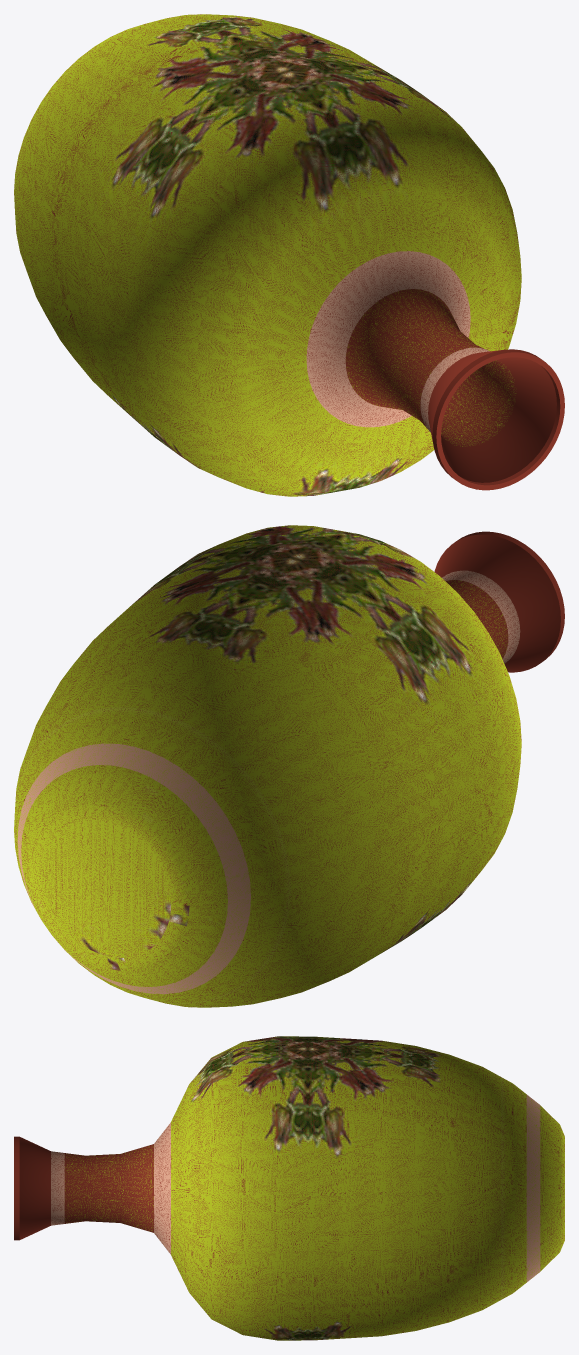
The model's file is model_align.obj.
3 views of the same model, one above another, from view 1: azimuth 30°, elevation 25°; view 2: azimuth 150°, elevation 25°; view 3: azimuth 270°, elevation 25° (orthographic). The views are drawn at different scales.
Visible parts, largest first — view 1: mesh1_mesh1-geometry; view 2: mesh1_mesh1-geometry; view 3: mesh1_mesh1-geometry.
Part boxes in pixels (left/top/right/bottom): mesh1_mesh1-geometry: left=14, top=14, right=564, bottom=496; mesh1_mesh1-geometry: left=14, top=525, right=564, bottom=1007; mesh1_mesh1-geometry: left=14, top=1036, right=564, bottom=1340.
Bounding box in the file's own units: 0.0746 × 0.0746 × 0.1351.
Materials: 5 (2 with a texture image).
